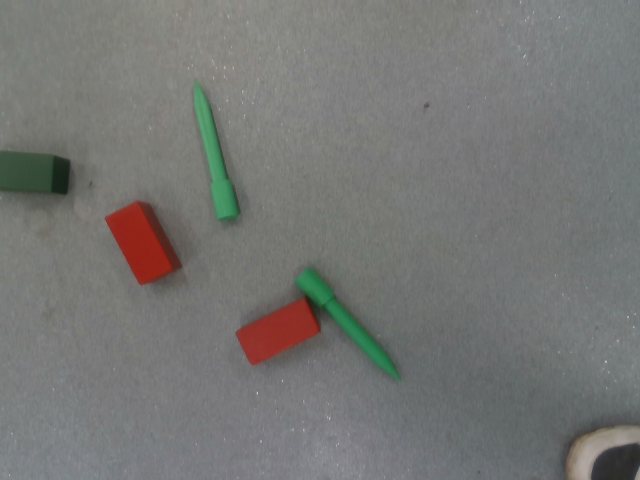Probe: (291, 262, 405, 383), (190, 78, 243, 223)
